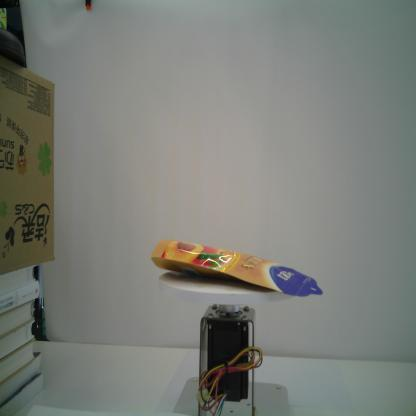Dried Fruit: (150, 238, 324, 297)
